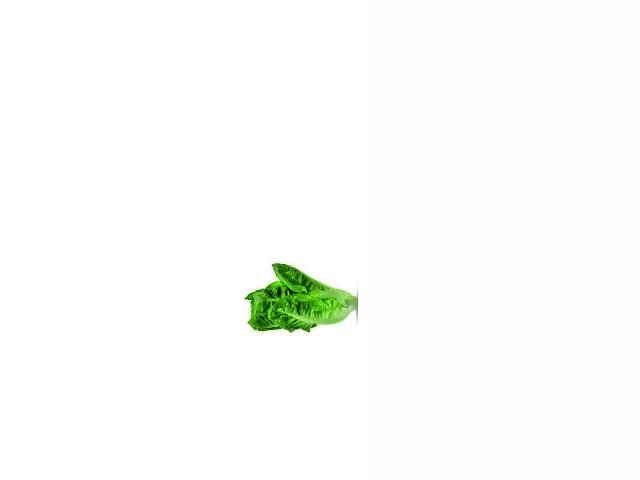lettuce: (244, 262, 352, 336)
